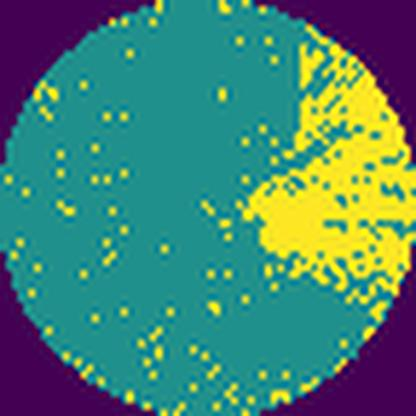Edge-Loc: (238, 23, 415, 303)
